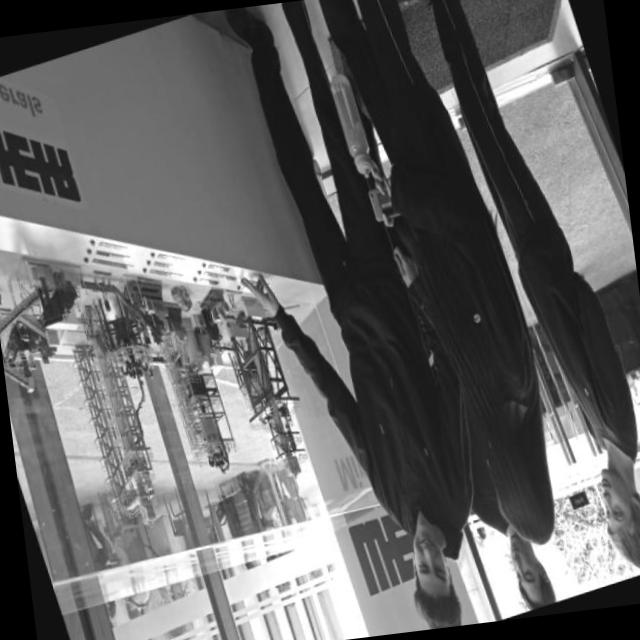person: (164, 0, 519, 640), (308, 0, 591, 581), (402, 0, 640, 602), (483, 517, 562, 618), (178, 592, 181, 599)
